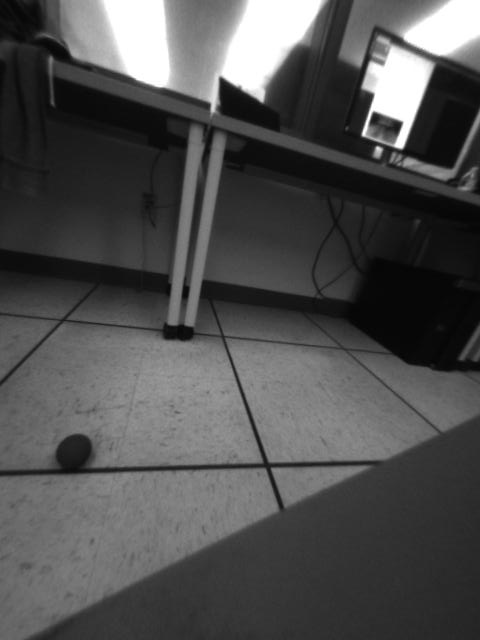dogtoy: (48, 426, 101, 480)
